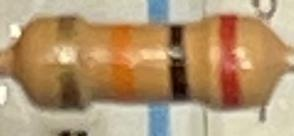Black: (167, 22, 192, 100)
Orange: (107, 25, 138, 103)
Red: (216, 14, 247, 110)
Side-Gold: (53, 15, 87, 115)
